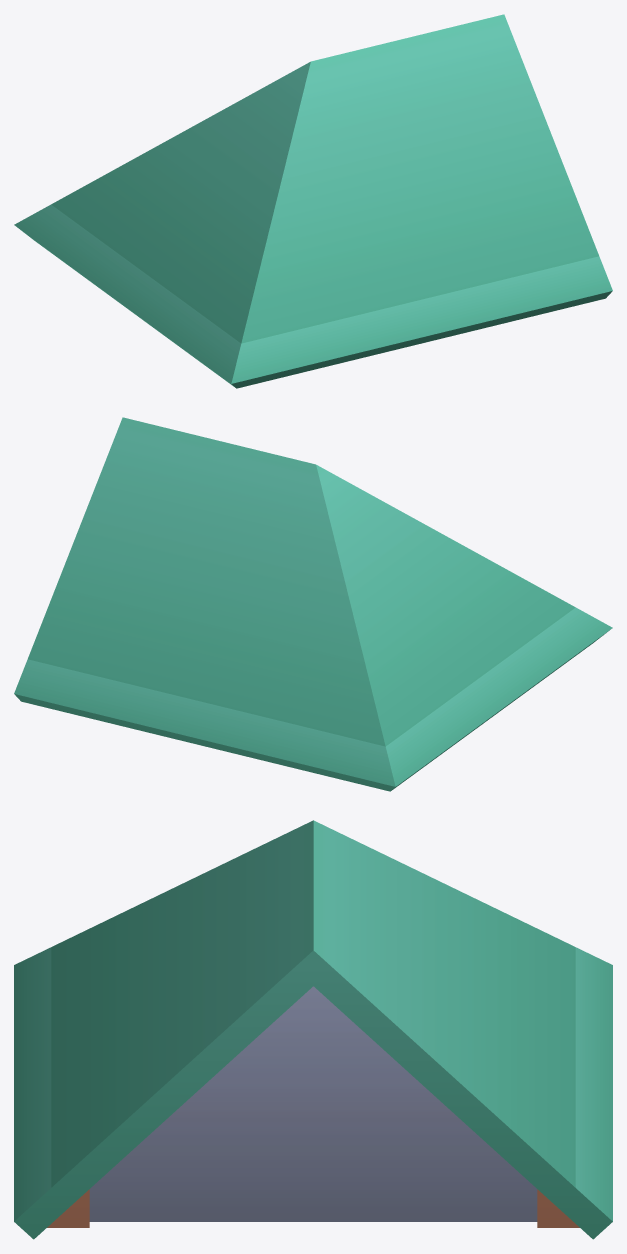
File: roof-gable-end.glb
3 views of the same model, one above another, from view 1: azimuth 30°, elevation 25°; view 2: azimuth 150°, elevation 25°; view 3: azimuth 270°, elevation 25° (orthographic). The views are drawn at different scales.
Visible parts, largest first — view 1: roof-gable-end; view 2: roof-gable-end; view 3: roof-gable-end.
Boxes of the visible parts, <box> form: roof-gable-end: <box>14,14,612,388</box>; roof-gable-end: <box>14,417,612,791</box>; roof-gable-end: <box>14,820,612,1239</box>.
Size of the model in its own units: 1.09 by 0.5707 by 1.07.
Materials: 1 (1 with a texture image).
